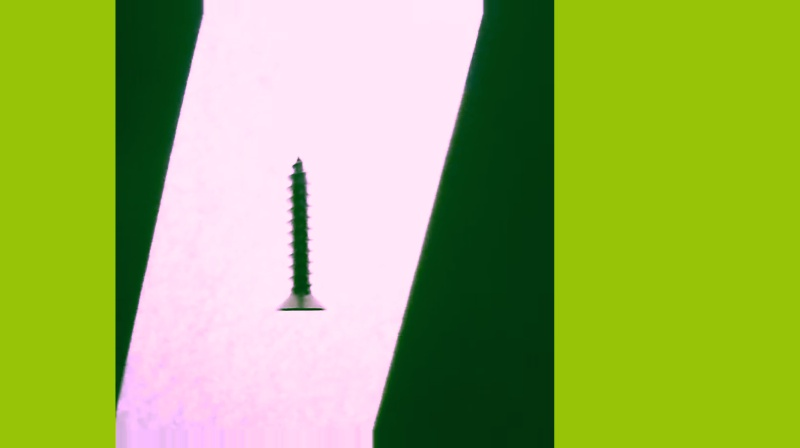S001: (272, 155, 328, 317)
